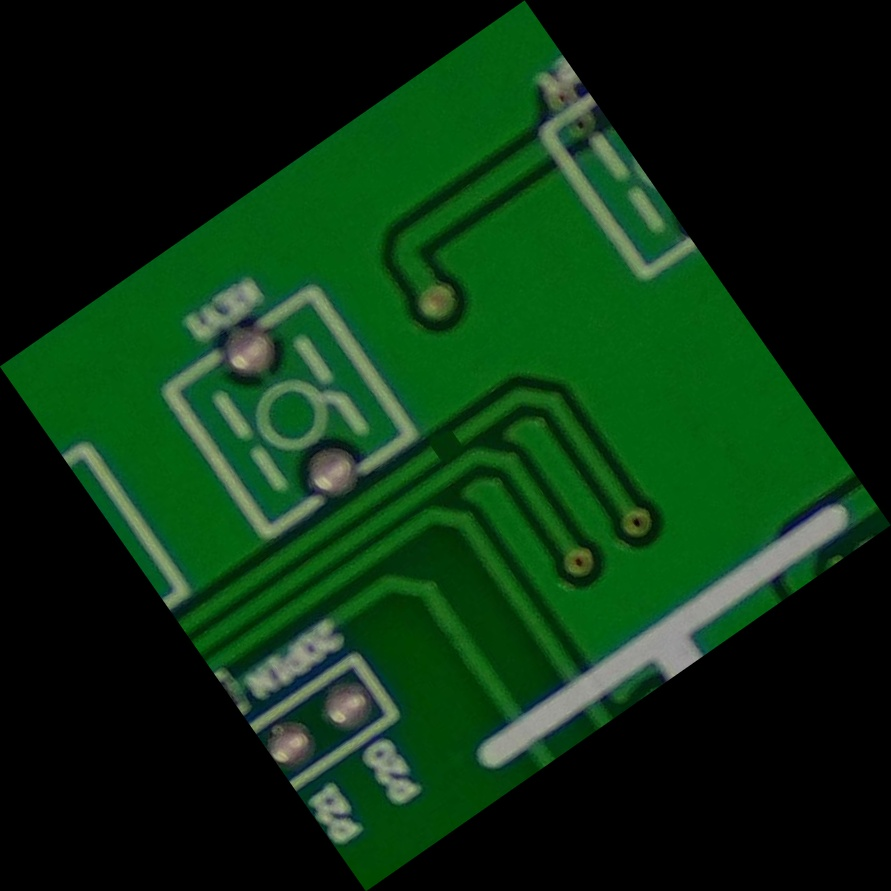open_circuit: (419, 420, 473, 472)
